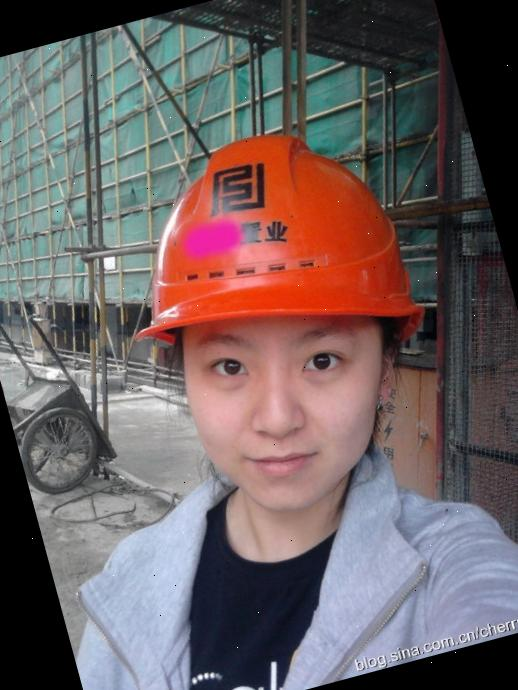helmet: (101, 81, 454, 407)
no_wear: (51, 425, 518, 690)
